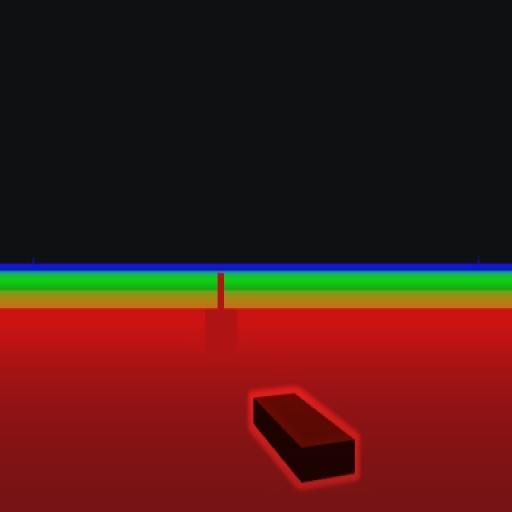debris_container: (253, 388, 356, 485)
